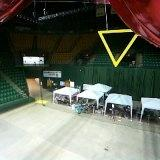Yellow_Triangle_Gshape: (98, 29, 138, 66)
